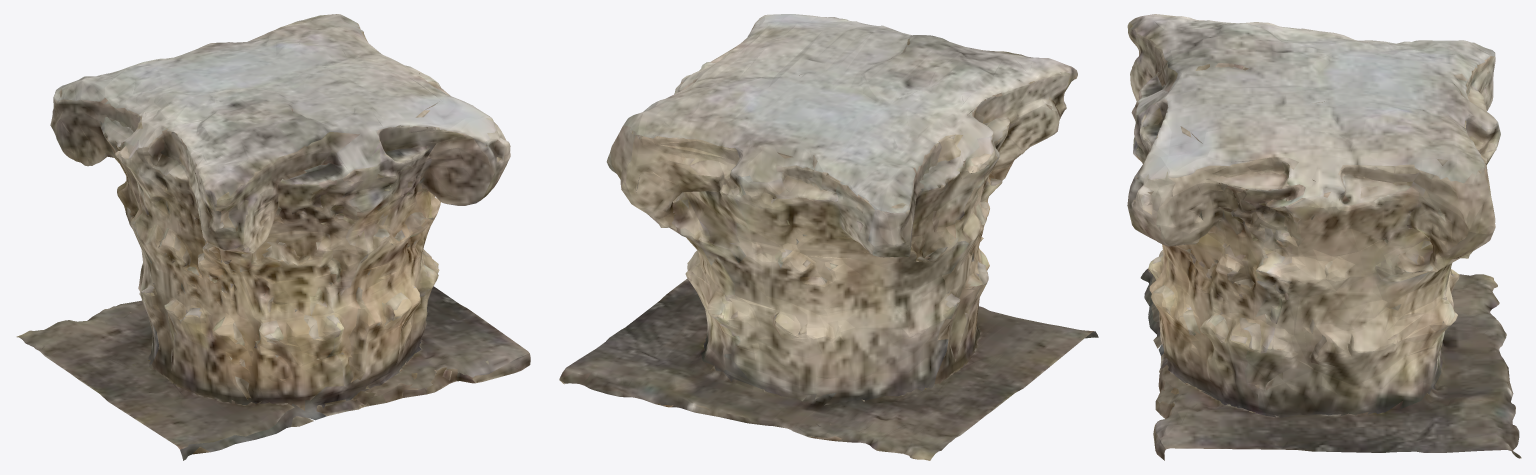
File: corinthian-capital.glb
3 views of the same model, side by side, from view 1: azimuth 30°, elevation 25°; view 2: azimuth 150°, elevation 25°; view 3: azimuth 270°, elevation 25° (orthographic). The views are drawn at different scales.
Parts seen in each view (by area): view 1: Object_2; view 2: Object_2; view 3: Object_2.
Part boxes in pixels (x1,y1,x2,y2): Object_2: (16, 14, 530, 460); Object_2: (559, 14, 1098, 460); Object_2: (1127, 14, 1521, 460).
Bounding box in the file's own units: 0.6507 × 0.4879 × 0.5919.
Materials: 1 (1 with a texture image).
